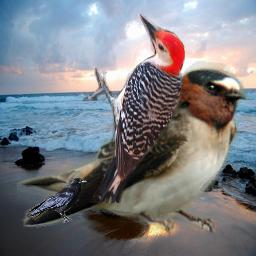Crow: (26, 176, 88, 224)
Swallow: (17, 61, 255, 236)
Woodpecker: (83, 12, 185, 203)
